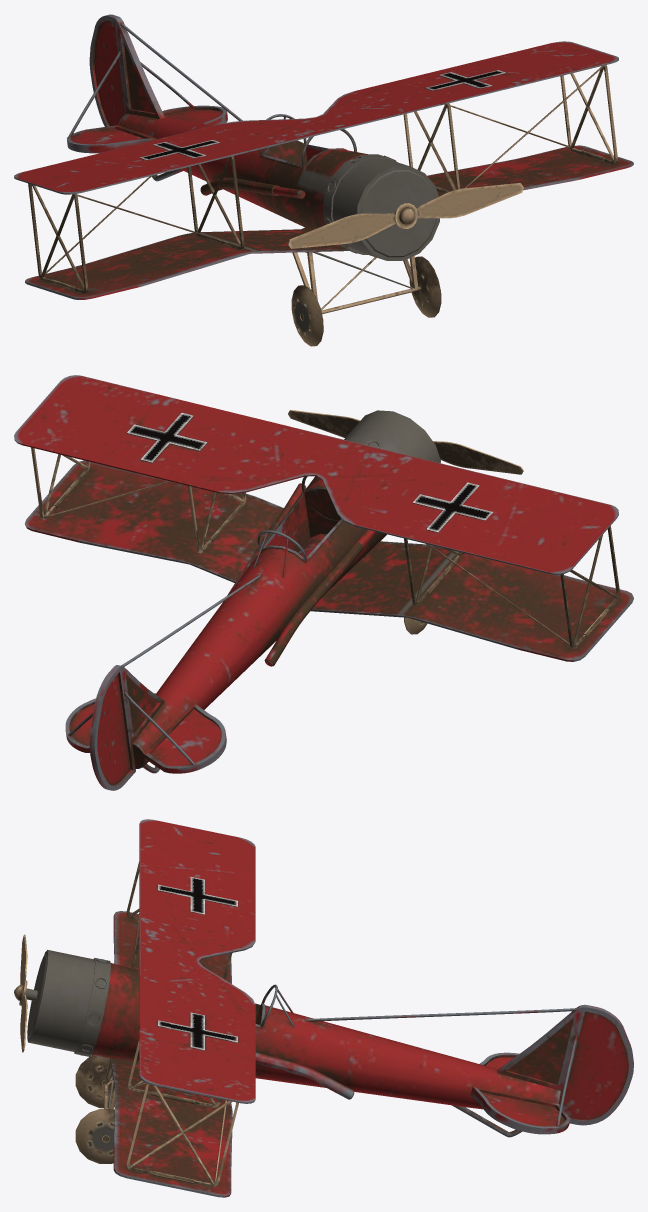
The picture shows the model from 3 angles, top to bottom: view 1: azimuth 30°, elevation 25°; view 2: azimuth 150°, elevation 25°; view 3: azimuth 270°, elevation 25°; orthographic projection. The views are drawn at different scales.
Visible parts, largest first — view 1: plane, wing_top, wing_bottom, prop, tires, wing_support_pannel_left, wing_support_pannel_right, pipe_left, cross, cross.001, BezierCurve.002; view 2: wing_top, wing_bottom, plane, wing_support_pannel_left, prop, wing_support_pannel_right, pipe_left, cross.001, cross, pipe_right; view 3: plane, wing_top, wing_bottom, tires, wing_support_pannel_right, pipe_right, cross, cross.001, BezierCurve.002, prop, wing_support_pannel_left.
Boxes of the visible parts, x1=… form: plane: x1=67, y1=14, x2=439, y2=260; wing_top: x1=14, y1=41, x2=618, y2=194; wing_bottom: x1=25, y1=145, x2=633, y2=299; prop: x1=288, y1=183, x2=523, y2=248; tires: x1=291, y1=252, x2=441, y2=346; wing_support_pannel_left: x1=28, y1=156, x2=244, y2=293; wing_support_pannel_right: x1=403, y1=65, x2=617, y2=193; pipe_left: x1=200, y1=177, x2=305, y2=198; cross: x1=140, y1=140, x2=219, y2=160; cross.001: x1=425, y1=70, x2=505, y2=90; BezierCurve.002: x1=120, y1=22, x2=242, y2=121; wing_top: x1=14, y1=375, x2=618, y2=574; wing_bottom: x1=25, y1=460, x2=633, y2=661; plane: x1=65, y1=410, x2=440, y2=790; wing_support_pannel_left: x1=404, y1=526, x2=619, y2=648; prop: x1=288, y1=410, x2=523, y2=474; wing_support_pannel_right: x1=31, y1=447, x2=246, y2=553; pipe_left: x1=264, y1=529, x2=375, y2=666; cross.001: x1=127, y1=413, x2=207, y2=462; cross: x1=413, y1=482, x2=493, y2=532; pipe_right: x1=227, y1=483, x2=306, y2=595; plane: x1=25, y1=950, x2=633, y2=1134; wing_top: x1=139, y1=819, x2=255, y2=1103; wing_bottom: x1=110, y1=911, x2=232, y2=1197; tires: x1=75, y1=1055, x2=114, y2=1163; wing_support_pannel_right: x1=126, y1=1038, x2=238, y2=1186; pipe_right: x1=138, y1=1024, x2=354, y2=1099; cross: x1=157, y1=877, x2=237, y2=914; cross.001: x1=157, y1=1012, x2=237, y2=1050; BezierCurve.002: x1=304, y1=1008, x2=577, y2=1021; prop: x1=14, y1=934, x2=27, y2=1052; wing_support_pannel_left: x1=126, y1=861, x2=232, y2=979.
Size of the model in its own units: 1322 by 437 by 1307.
1 material, 1 textured.
